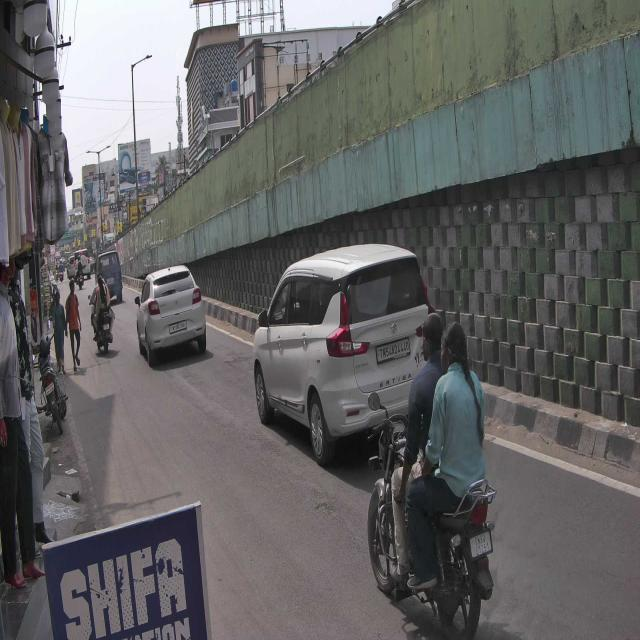double_rider: (366, 312, 494, 640)
